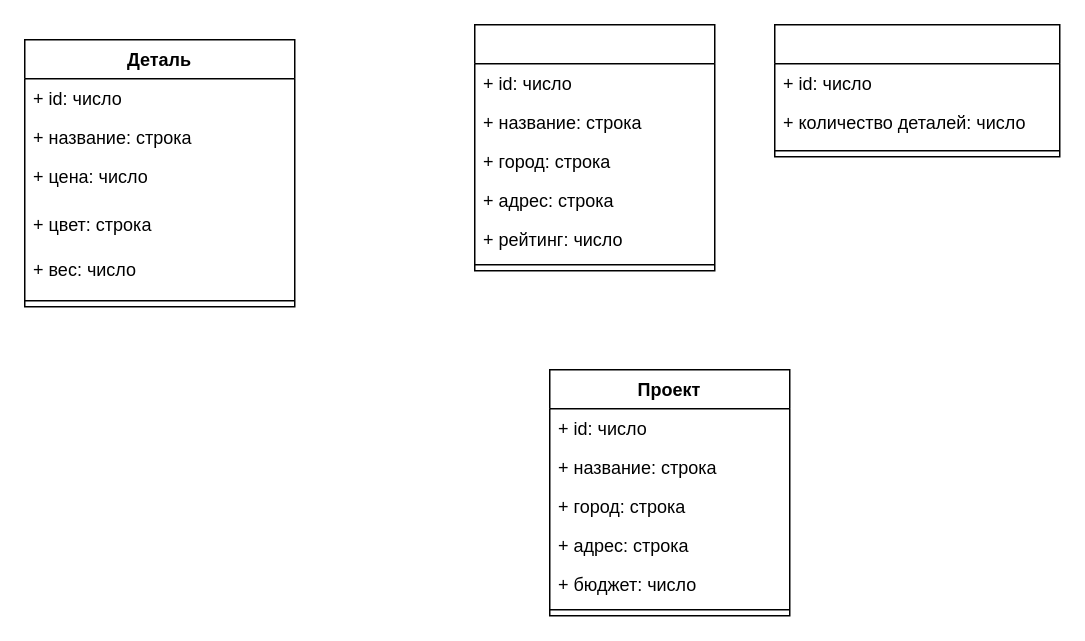
This 1085x641 diagram has some shape labels left out. The shapes that lost their labels are listed below. From the top down, each one's box as (x1, y1, x2, y2) in pixels, then its label:
(773, 23, 1060, 157): поставка деталей
(473, 23, 715, 271): Поставщик
